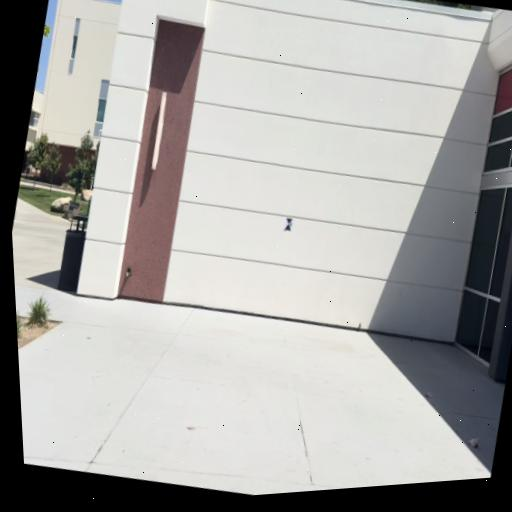target0: (283, 217, 293, 231)
